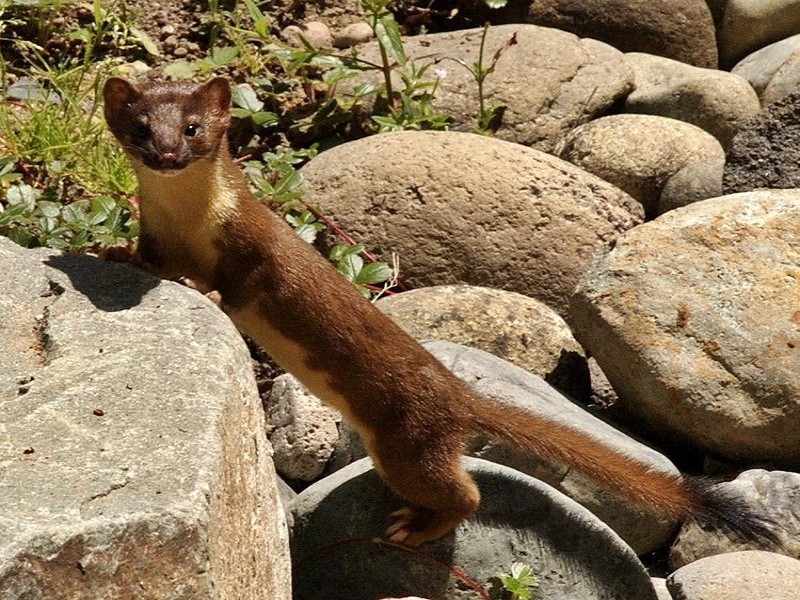minkish: (97, 74, 779, 560)
